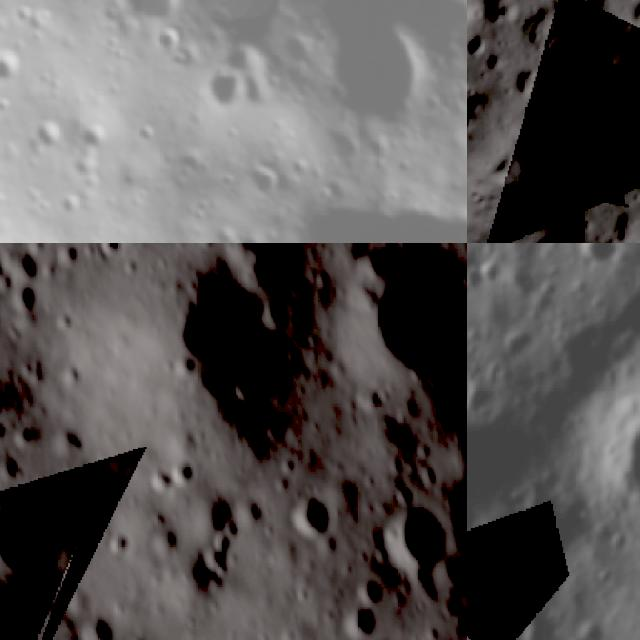crater: (148, 269, 282, 429), (312, 4, 452, 146), (339, 243, 467, 386), (584, 362, 640, 551), (366, 502, 463, 590), (0, 483, 72, 600), (230, 243, 321, 300), (274, 478, 344, 548), (231, 147, 299, 209), (495, 59, 559, 123), (201, 57, 264, 120), (105, 0, 199, 31), (29, 106, 73, 154), (0, 33, 33, 93), (129, 457, 178, 495), (163, 445, 204, 490), (71, 608, 123, 640), (0, 276, 43, 314), (342, 599, 377, 640), (467, 22, 496, 71), (496, 322, 532, 361), (575, 243, 626, 270), (88, 243, 128, 259), (0, 243, 13, 286), (482, 260, 500, 289), (537, 282, 557, 302), (369, 629, 403, 640), (467, 265, 480, 286)
